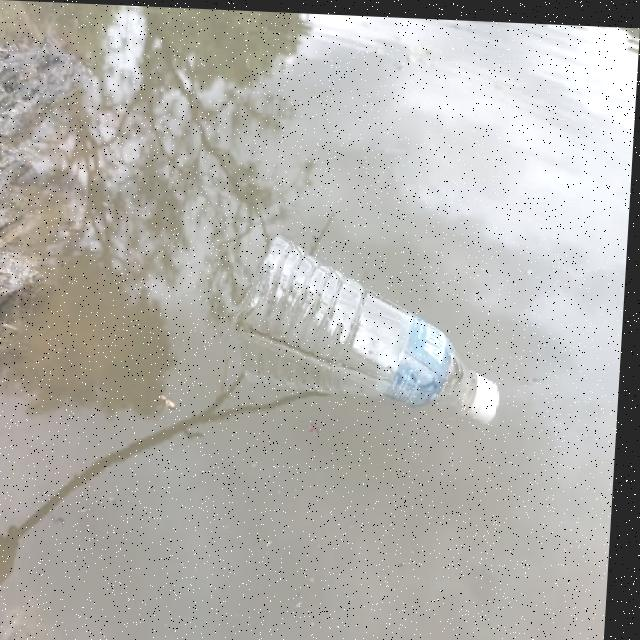waterbottle: (226, 227, 521, 414)
